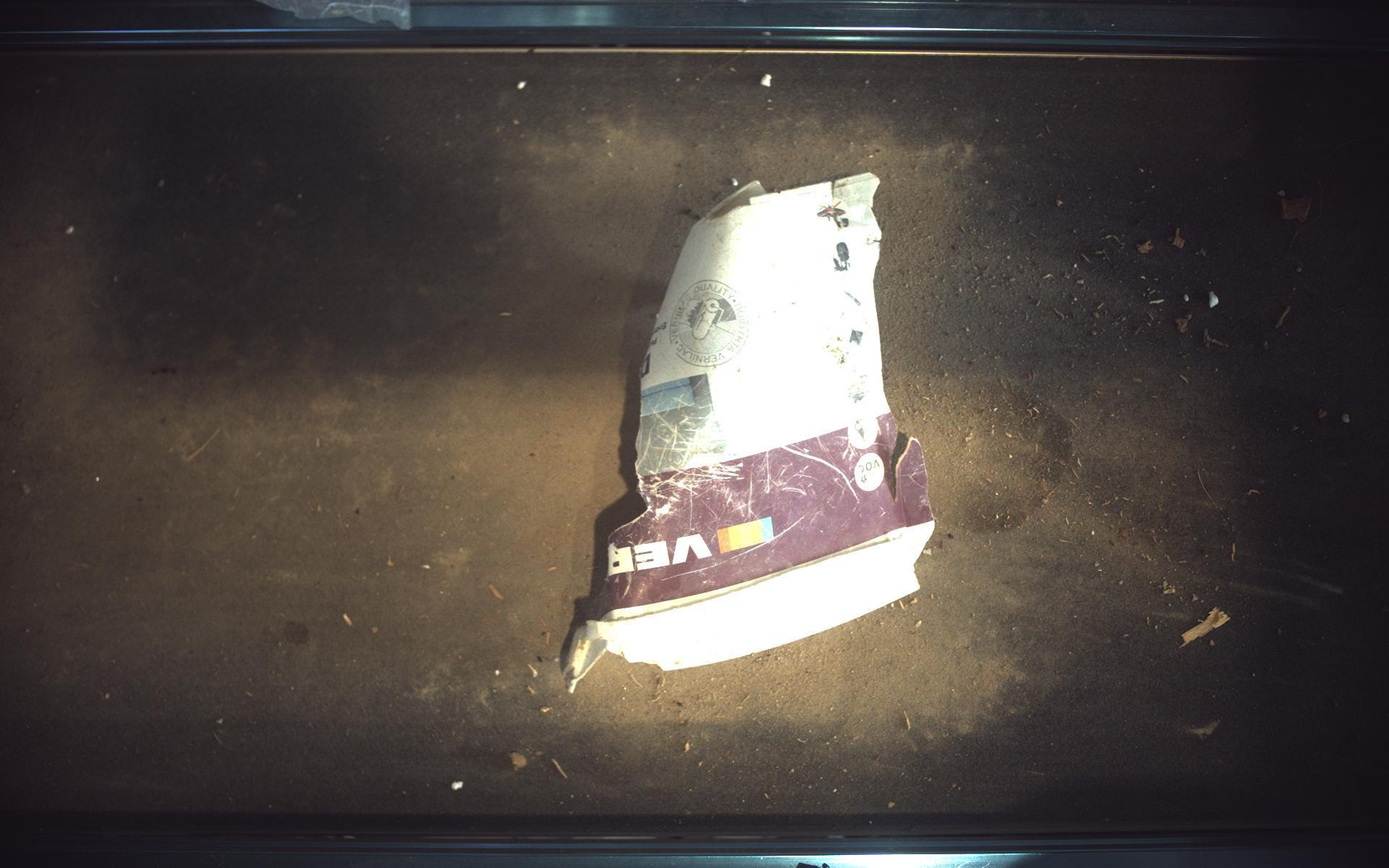plastic: (564, 172, 935, 692)
